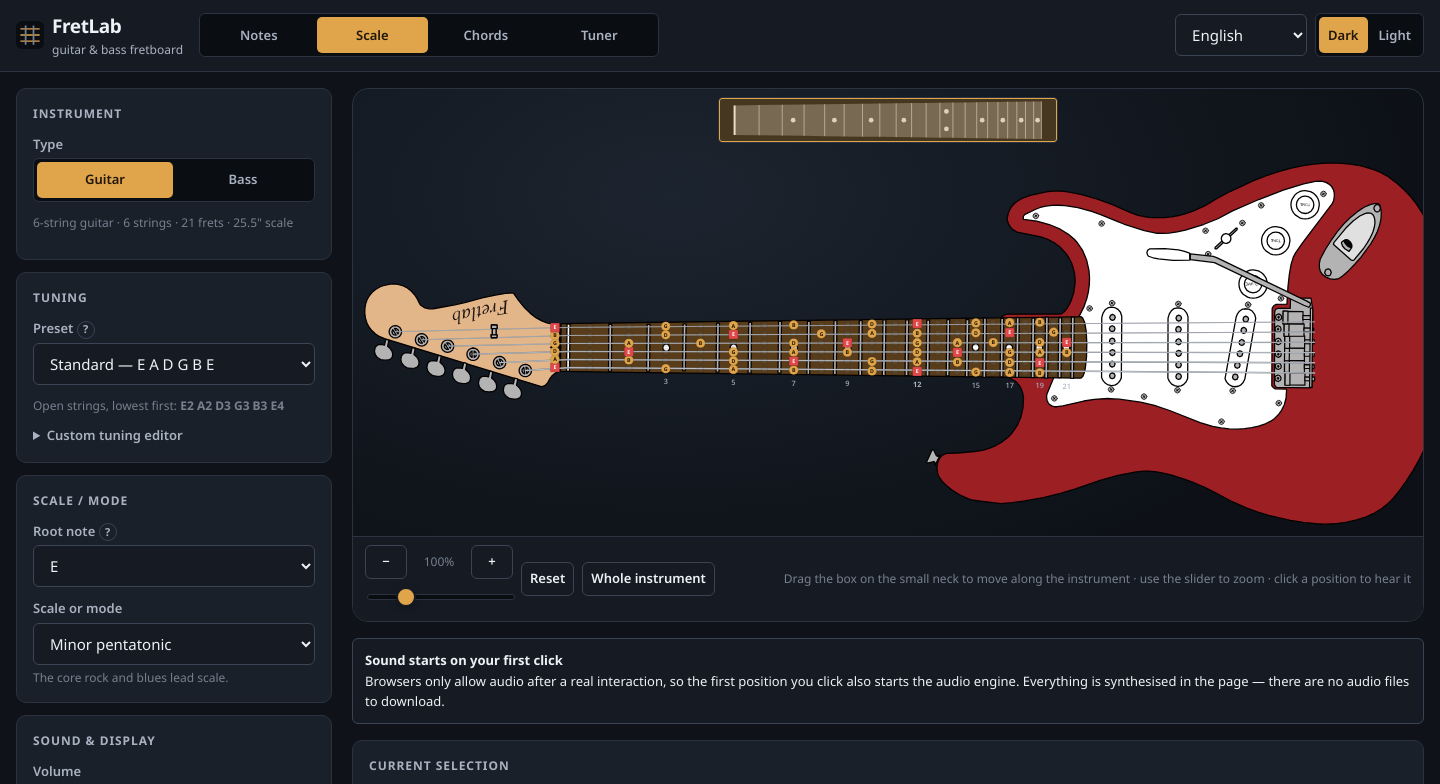
Test: the language picker › remembers the language across a reload
Select "Español" in the dropdown with id "locale-select" at coordinates (1241, 35), box [1175,14,1307,56]
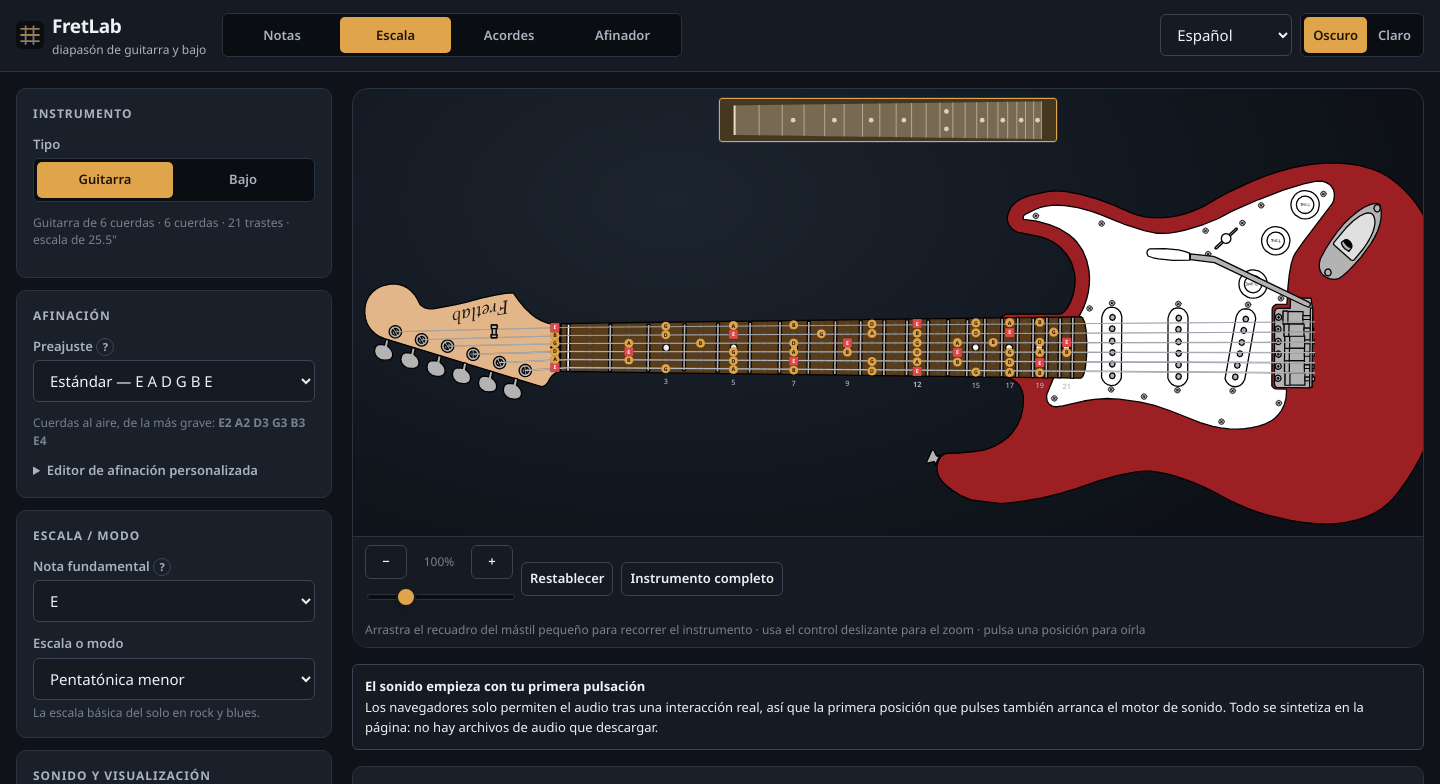
Result: the text "Instrumento" is shown at [33,104,132,122]
